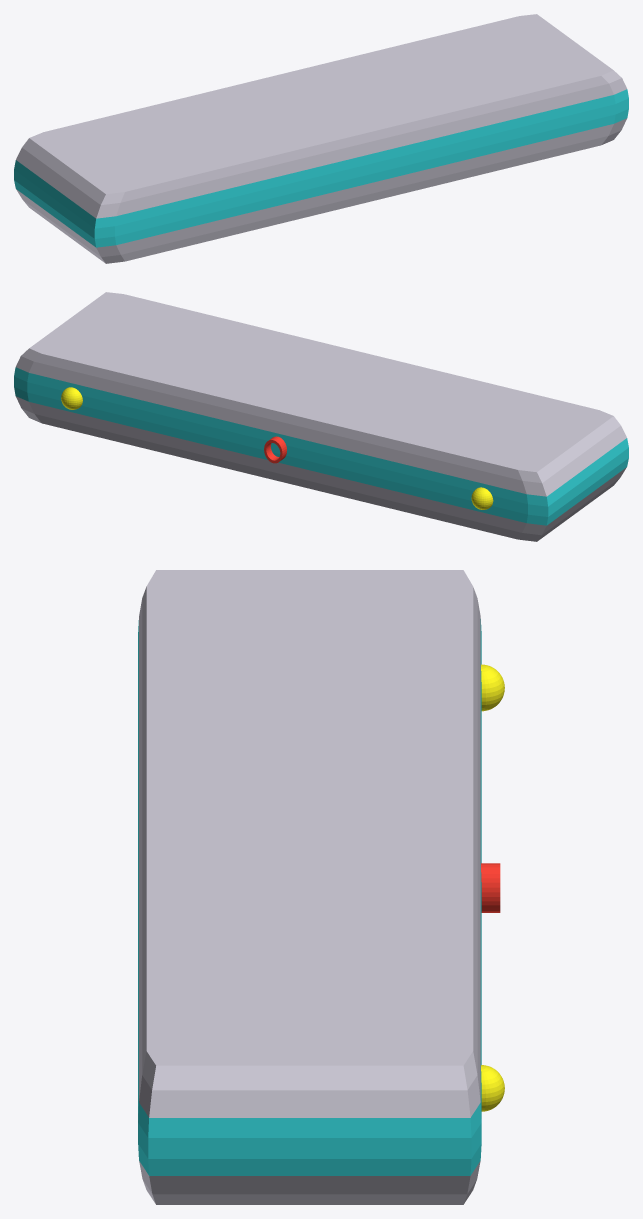
The model's file is Bar_Two.fbx.
3 renders of one model, top to bottom at view 1: azimuth 30°, elevation 25°; view 2: azimuth 150°, elevation 25°; view 3: azimuth 270°, elevation 25°, orthographic. The views are drawn at different scales.
Parts seen in each view (by area): view 1: Cube; view 2: Cube, Bar2_Circle, Bar2_Sphere_One, Bar2_Sphere_Two; view 3: Cube, Bar2_Circle, Bar2_Sphere_Two, Bar2_Sphere_One.
Part boxes in pixels (x1,y1,x2,y2): Cube: (14, 14, 628, 263); Cube: (14, 292, 628, 541); Bar2_Circle: (264, 436, 286, 463); Bar2_Sphere_One: (471, 487, 493, 509); Bar2_Sphere_Two: (61, 387, 82, 409); Cube: (138, 570, 481, 1204); Bar2_Circle: (481, 863, 500, 912); Bar2_Sphere_Two: (481, 1065, 504, 1111); Bar2_Sphere_One: (481, 664, 504, 711).
Bounding box in the file's own units: 963 × 120 × 286.
